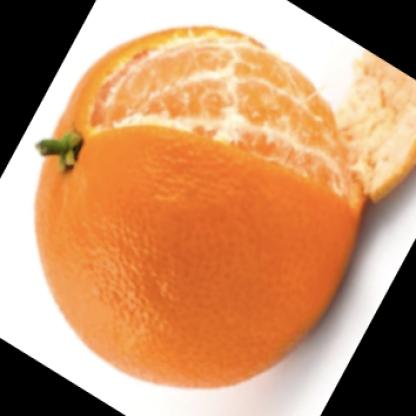fresh: (32, 29, 363, 390)
